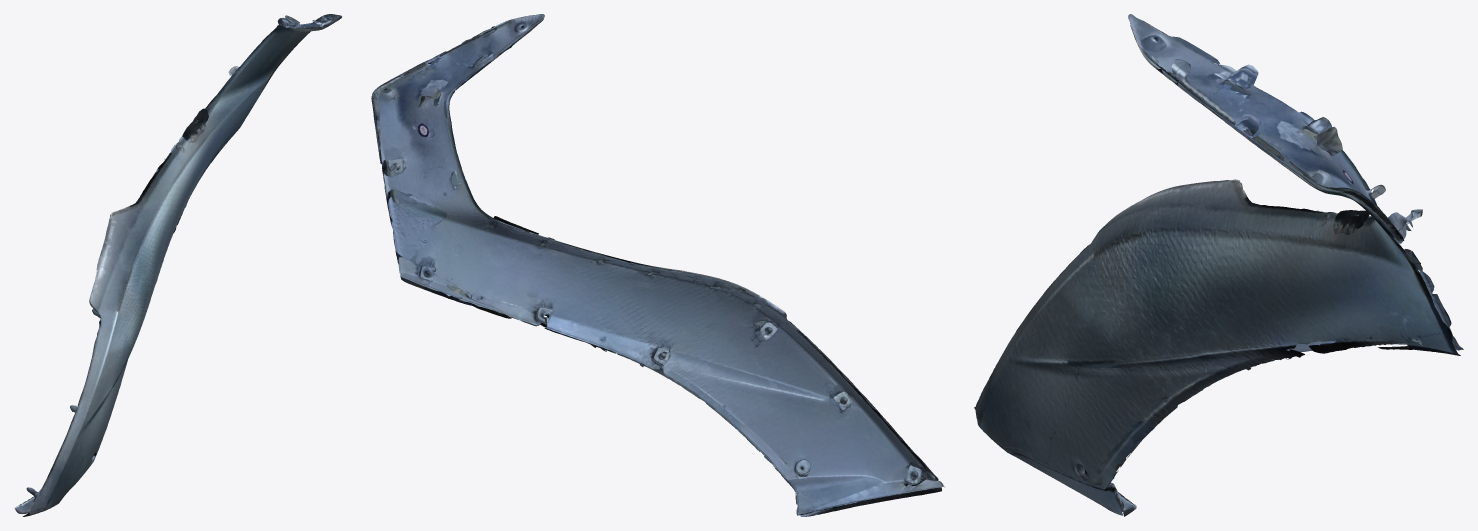
File: SPD-43433X-B.obj
3 views of the same model, side by side, from view 1: azimuth 30°, elevation 25°; view 2: azimuth 150°, elevation 25°; view 3: azimuth 270°, elevation 25° (orthographic). The views are drawn at different scales.
Parts seen in each view (by area): view 1: SPD-43433X-B; view 2: SPD-43433X-B; view 3: SPD-43433X-B.
Boxes of the visible parts, x1,y1,x2,y2 form: SPD-43433X-B: (14, 14, 341, 516); SPD-43433X-B: (371, 14, 944, 516); SPD-43433X-B: (974, 14, 1463, 516).
Size of the model in its own units: 683 by 619 by 393.
1 material, 1 textured.
